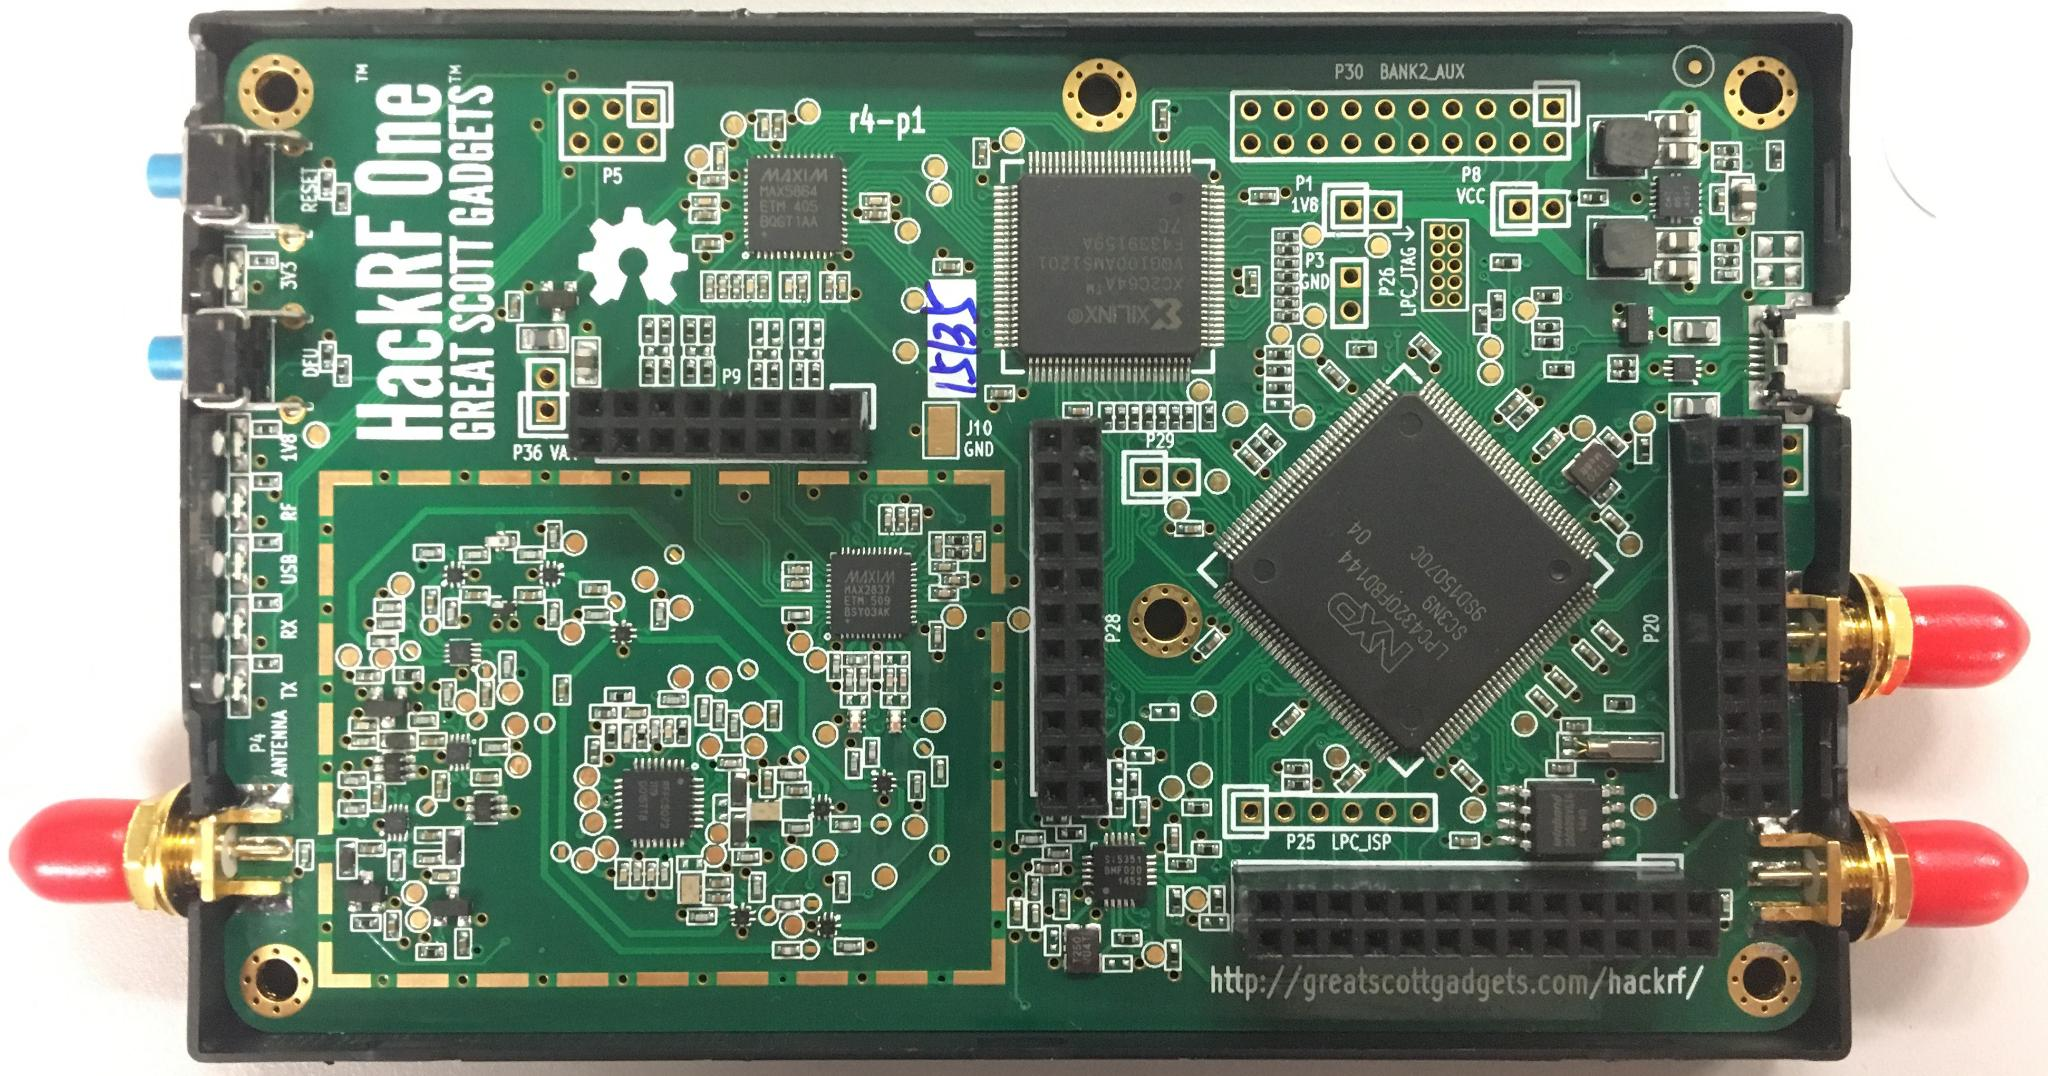tranzystor: (532, 276, 582, 325), (360, 684, 412, 728), (1612, 299, 1657, 344), (345, 871, 386, 913), (432, 888, 469, 930)
